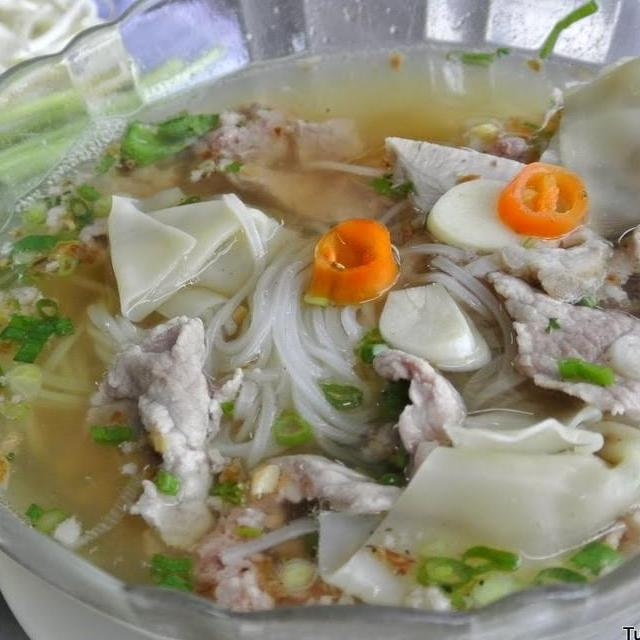banh hu tieu: (173, 214, 410, 480)
hu tieu: (0, 27, 640, 624), (408, 219, 544, 417)
thit bam: (0, 163, 118, 337)
thit heo: (224, 342, 476, 521), (76, 309, 228, 557), (475, 259, 640, 424), (373, 127, 580, 233)
